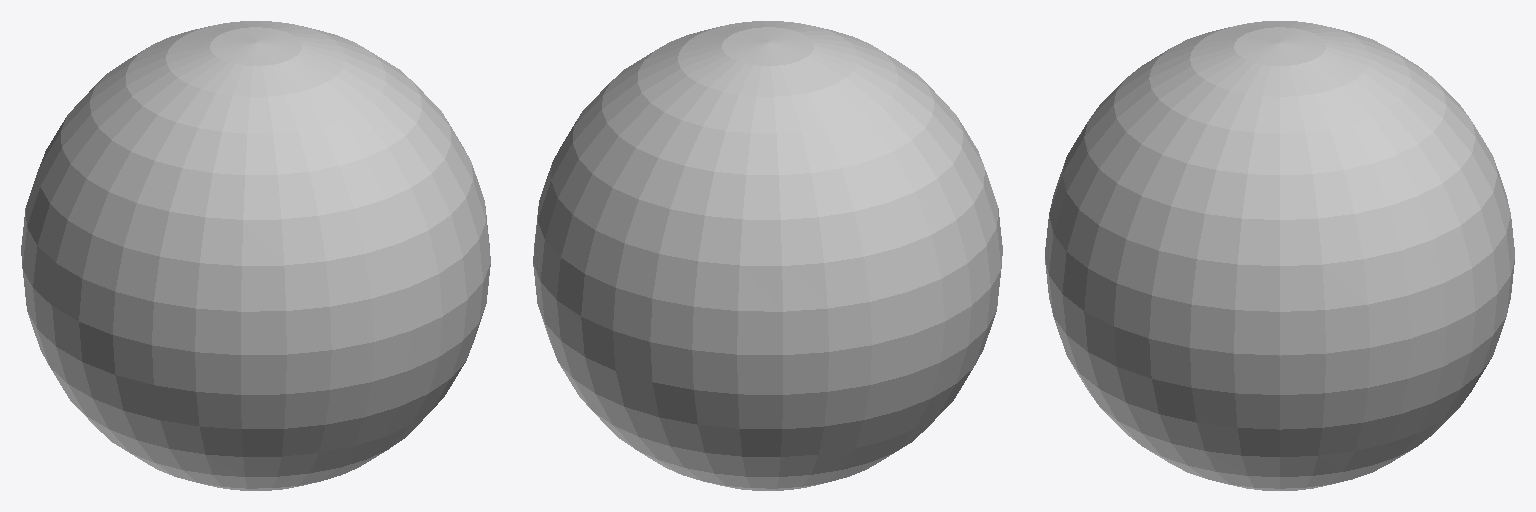
Rendered from Eyes02.obj.
3 renders of one model, left to right at view 1: azimuth 30°, elevation 25°; view 2: azimuth 150°, elevation 25°; view 3: azimuth 270°, elevation 25°, orthographic.
Parts seen in each view (by area): view 1: Sphere.002; view 2: Sphere.002; view 3: Sphere.002.
Part boxes in pixels (x1,y1,x2,y2): Sphere.002: (21, 21, 490, 490); Sphere.002: (533, 21, 1002, 490); Sphere.002: (1045, 21, 1514, 490).
Size of the model in its own units: 0.0253 by 0.0253 by 0.0253.